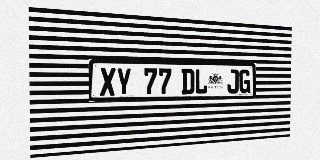7: (143, 68, 157, 95), (158, 68, 172, 95)
D: (181, 69, 194, 94)
G: (239, 69, 250, 93)
J: (227, 69, 239, 93)
L: (195, 69, 207, 94)
X: (100, 67, 116, 96)
Y: (116, 68, 131, 96)
